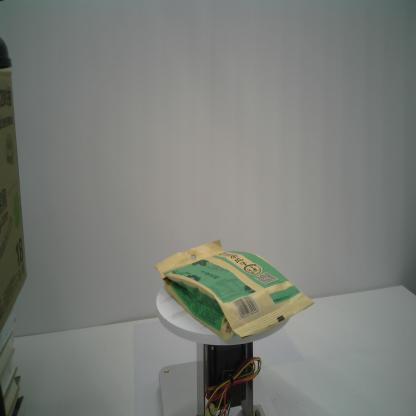Dried Food: (153, 237, 315, 343)
